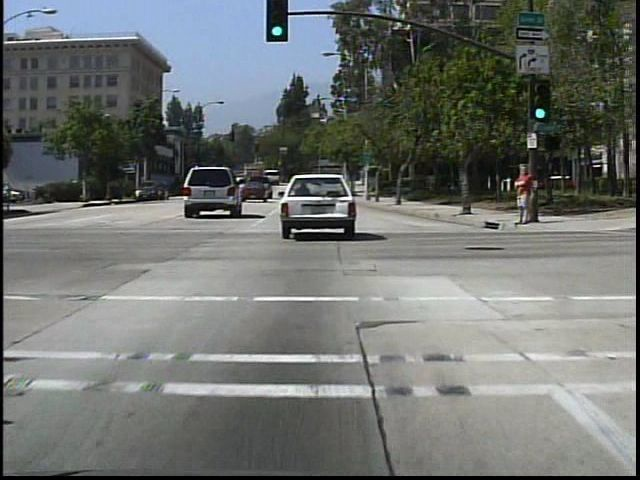person: (509, 162, 537, 228), (5, 181, 20, 211)
